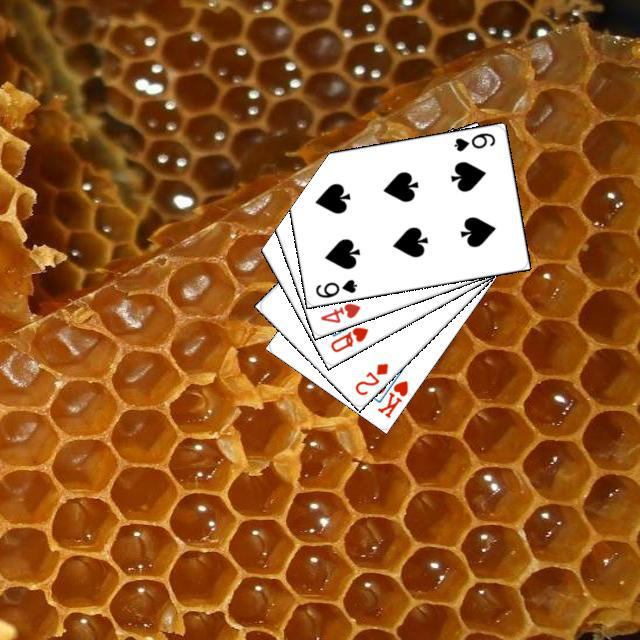2d: (350, 358, 390, 397)
4h: (315, 298, 362, 325)
6s: (449, 128, 497, 153), (311, 274, 358, 299)
Kh: (371, 366, 410, 420)
Qh: (325, 322, 370, 354)
